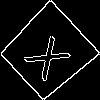X: (23, 26, 79, 83)
